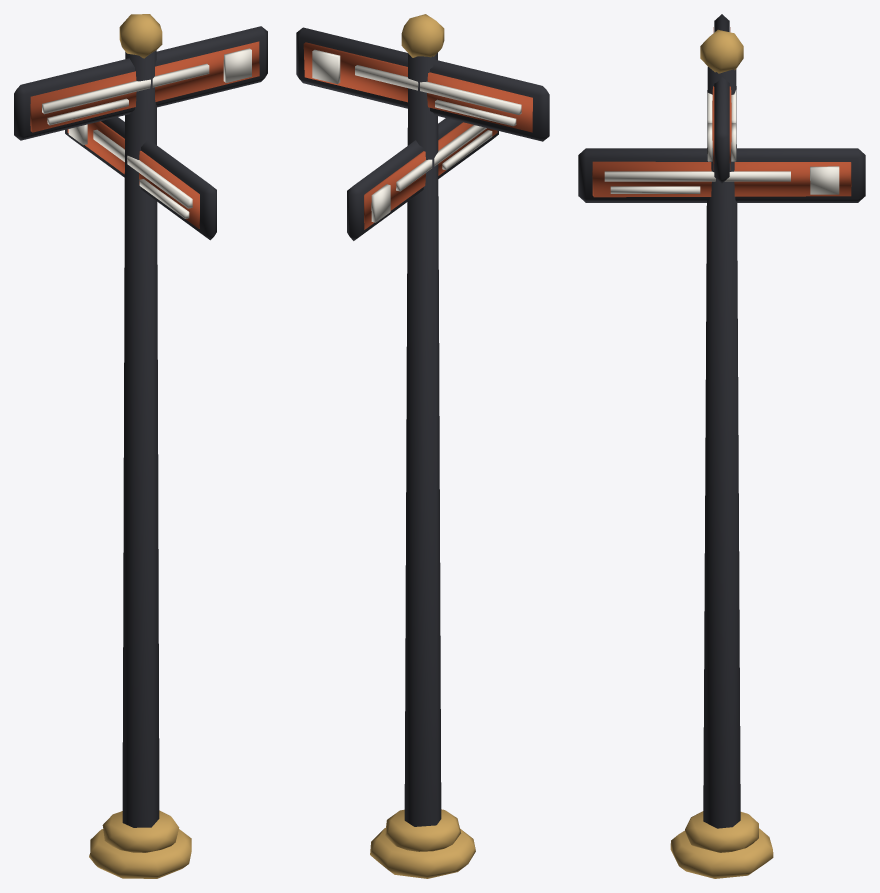
The model's file is lod_street_sign_post.glb.
The picture shows the model from 3 angles, left to right: view 1: azimuth 30°, elevation 25°; view 2: azimuth 150°, elevation 25°; view 3: azimuth 270°, elevation 25°; orthographic projection. The views are drawn at different scales.
Parts seen in each view (by area): view 1: street_sign_post; view 2: street_sign_post; view 3: street_sign_post.
Boxes of the visible parts, left/top/right/bottom form: street_sign_post: left=14, top=14, right=267, bottom=878; street_sign_post: left=296, top=14, right=549, bottom=878; street_sign_post: left=578, top=14, right=865, bottom=878.
Size of the model in its own units: 0.95 by 3.03 by 0.95.
